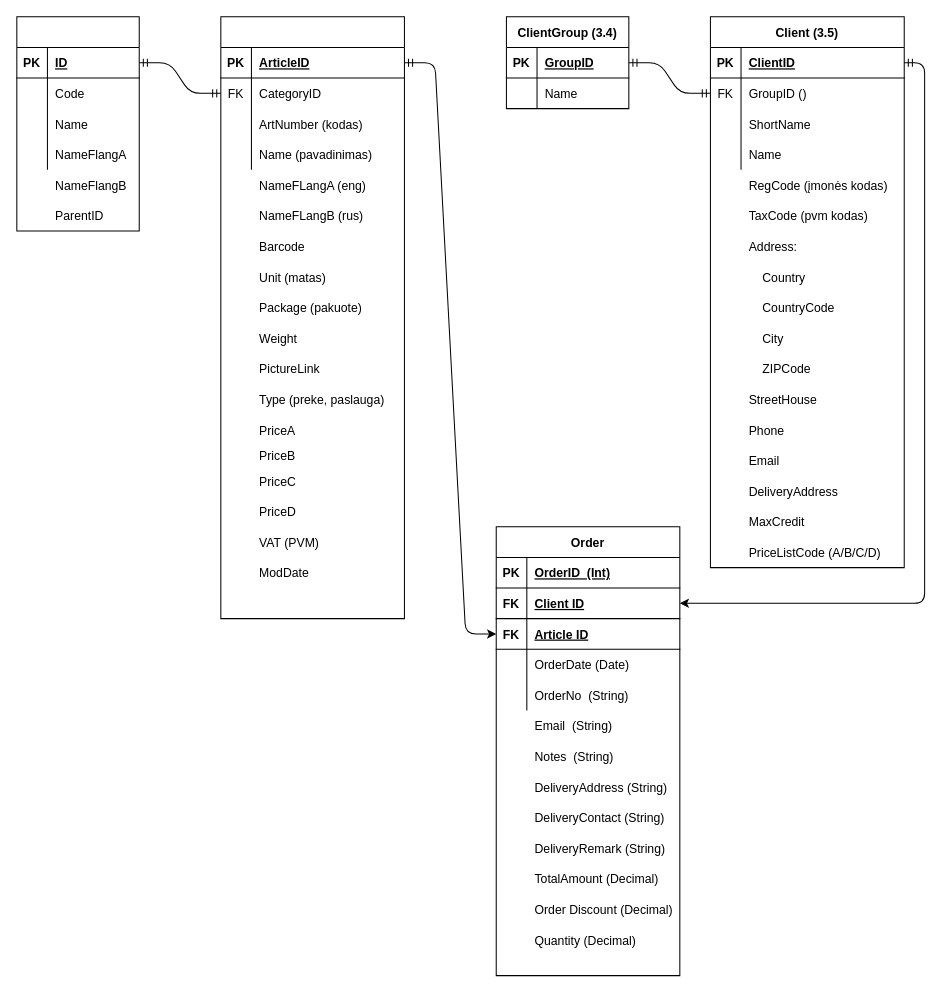
Image size: 941x992. Some labels were removed from this diagram. The box of each missing label's shape, as (x1, y1, x2, y2) in pixels:
Article (3.2): (220, 16, 404, 619)
Category (3.1): (16, 16, 139, 231)
